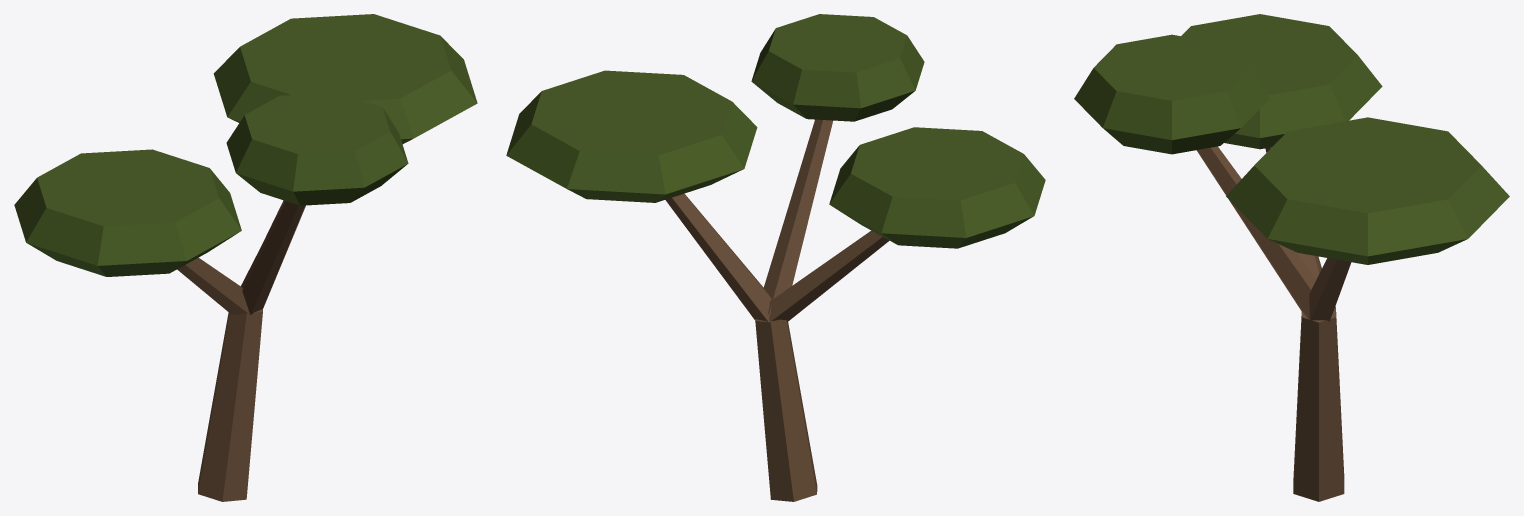
File: acacia.glb
3 views of the same model, side by side, from view 1: azimuth 30°, elevation 25°; view 2: azimuth 150°, elevation 25°; view 3: azimuth 270°, elevation 25° (orthographic). The views are drawn at different scales.
Parts seen in each view (by area): view 1: acacia2; view 2: acacia2; view 3: acacia2.
Part boxes in pixels (x1,y1,x2,y2): acacia2: [14, 14, 477, 501]; acacia2: [506, 14, 1045, 501]; acacia2: [1074, 14, 1509, 501].
Size of the model in its own units: 6 by 4.89 by 4.45.
